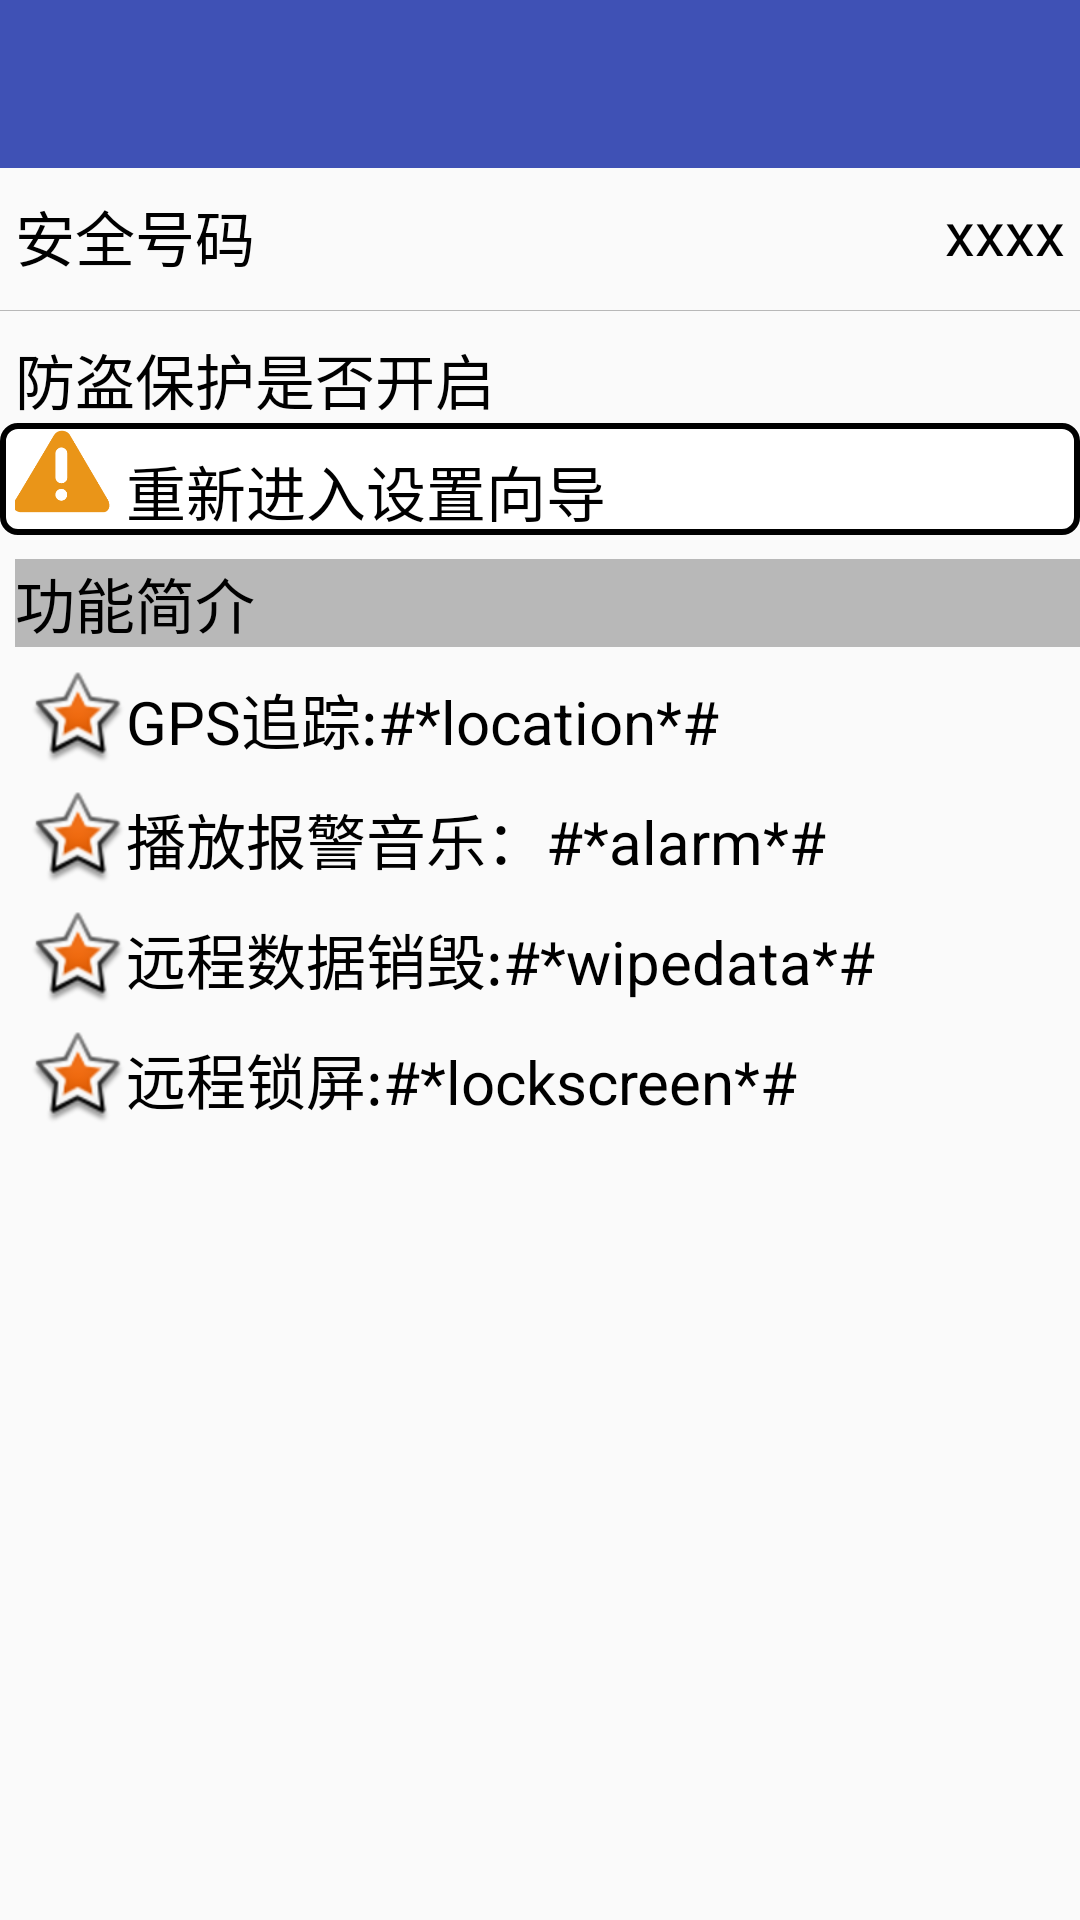

Icons on this 1080*1920 Android screen, each with the point to tap as point (x, y):
attention: point (62, 471)
